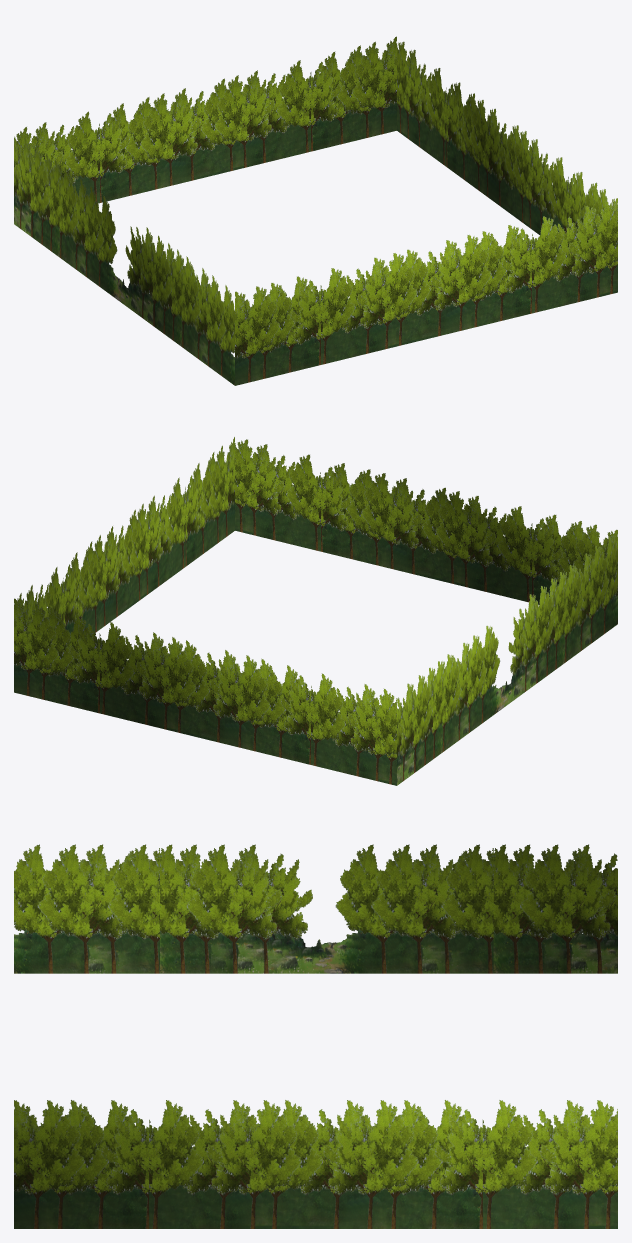
File: AntromSkybox.glb
3 renders of one model, top to bottom at view 1: azimuth 30°, elevation 25°; view 2: azimuth 150°, elevation 25°; view 3: azimuth 270°, elevation 25°, orthographic. The views are drawn at different scales.
Visible parts, largest first — view 1: Cube; view 2: Cube; view 3: Cube.
Boxes of the visible parts, x1,y1,x2,y2 form: Cube: (14, 36, 617, 385); Cube: (14, 437, 617, 785); Cube: (14, 844, 617, 1228).
Size of the model in its own units: 160 by 46.61 by 160.
1 material, 1 textured.
